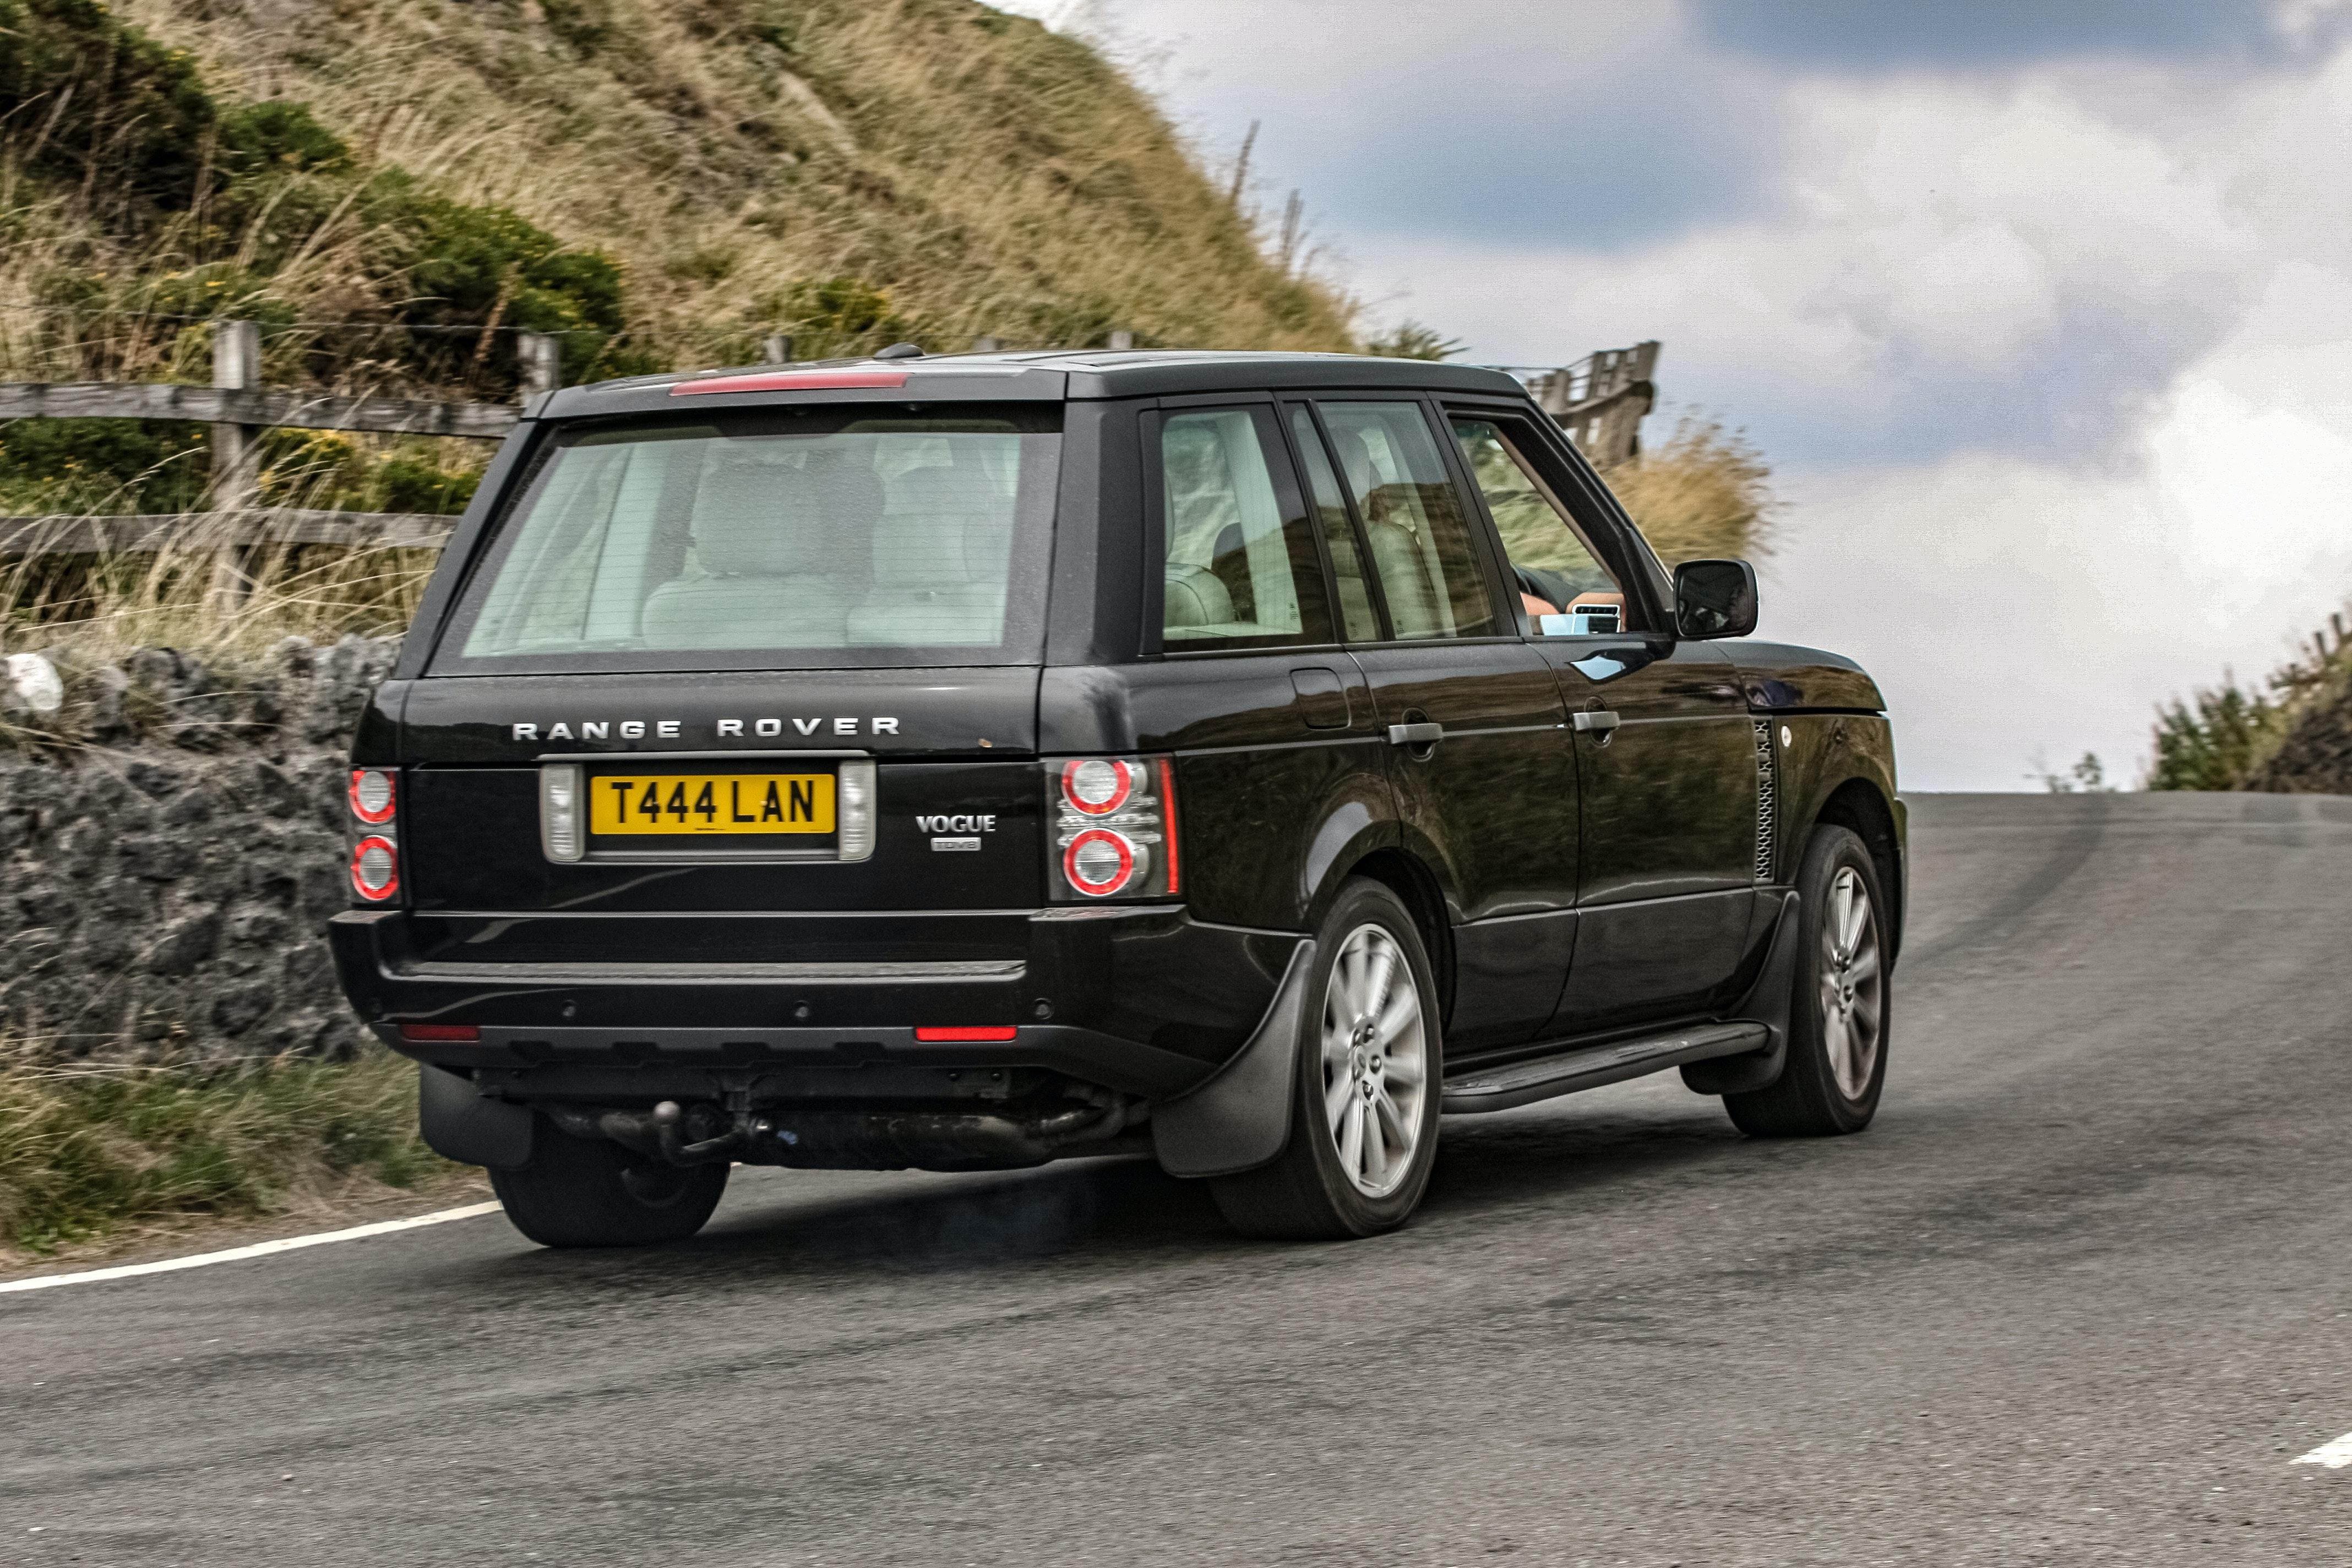range rover: (492, 689, 920, 777)
